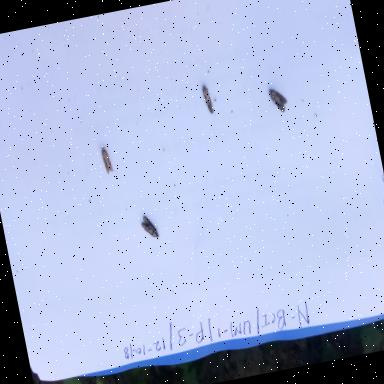pbw: (98, 142, 121, 178), (266, 83, 290, 115), (139, 213, 162, 244), (201, 82, 218, 119)
